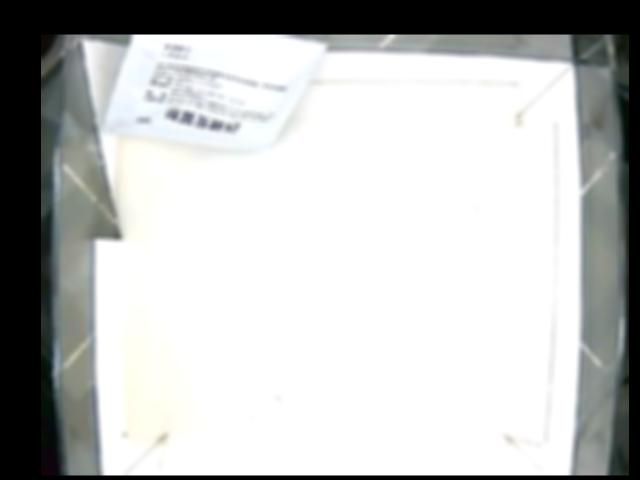Medicine: (102, 35, 327, 152)
